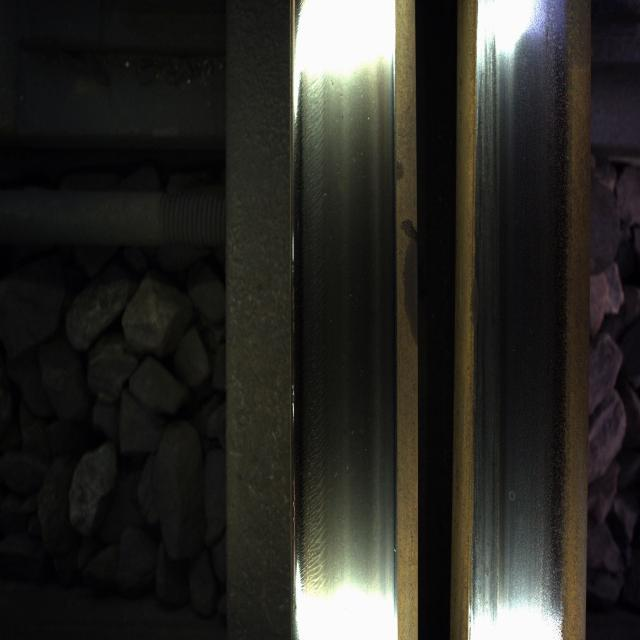break: (296, 54, 396, 582), (482, 44, 562, 578)
